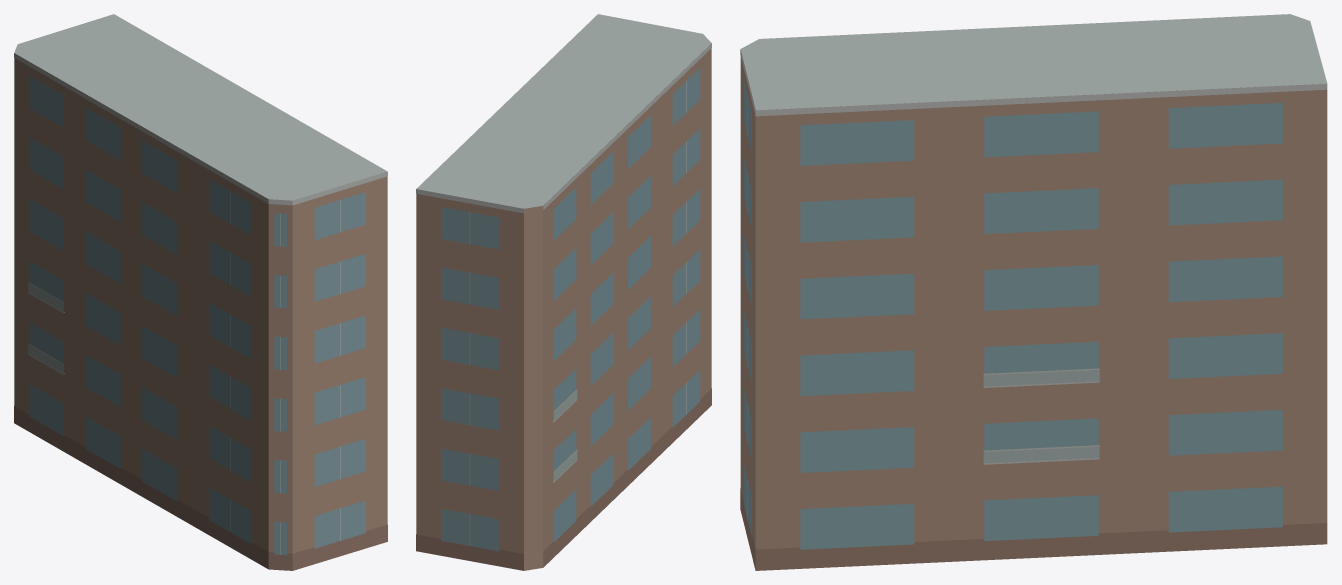
File: survey-upis-33007746.glb
The picture shows the model from 3 angles, left to right: view 1: azimuth 30°, elevation 25°; view 2: azimuth 150°, elevation 25°; view 3: azimuth 270°, elevation 25°; orthographic projection. The views are drawn at different scales.
Parts seen in each view (by area): view 1: survey-upis-33007746.tmp; view 2: survey-upis-33007746.tmp; view 3: survey-upis-33007746.tmp.
Part boxes in pixels (box(x1,y1,x2,y2)): survey-upis-33007746.tmp: box(14, 14, 387, 570); survey-upis-33007746.tmp: box(416, 14, 711, 570); survey-upis-33007746.tmp: box(740, 14, 1327, 570).
Bounding box in the file's own units: 8.45 × 18.8 × 21.73.
